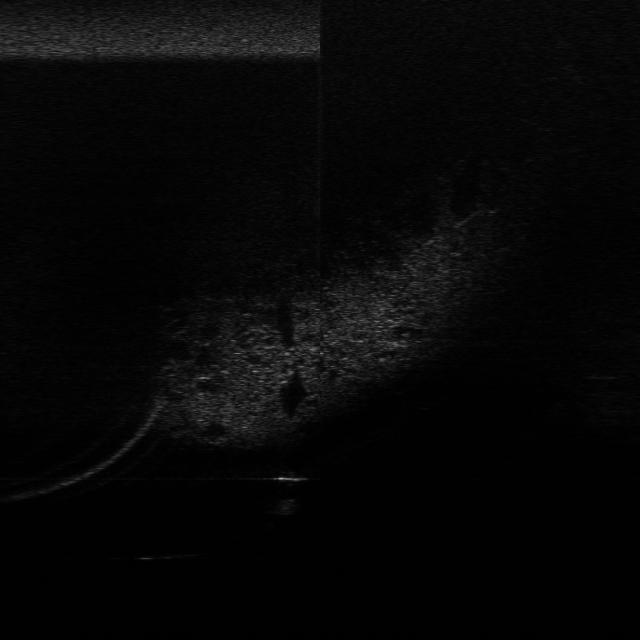cube: (272, 464, 312, 488)
cylinder: (270, 494, 298, 517)
